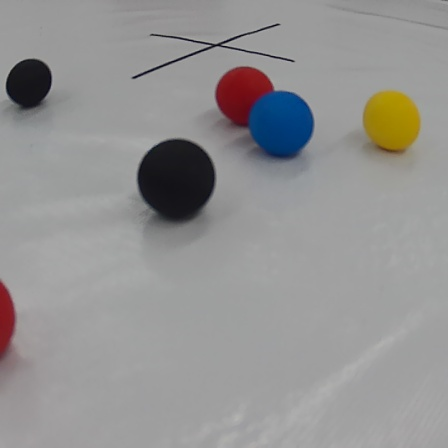black: (129, 135, 217, 224), (4, 59, 53, 109)
blue: (253, 93, 318, 160)
red: (209, 66, 274, 122)
yellow: (362, 89, 422, 152)
